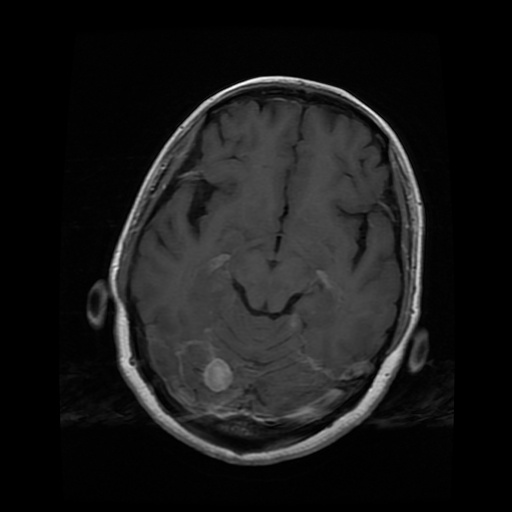meningioma: (204, 358, 233, 392)
